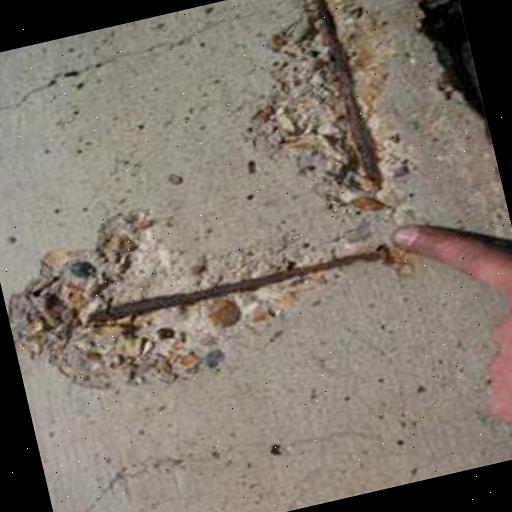spalling: (7, 0, 412, 397)
